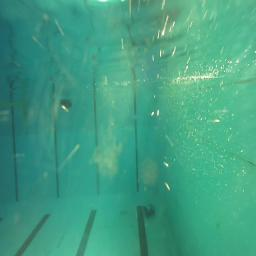Full: (143, 203, 156, 217), (59, 98, 71, 108)
